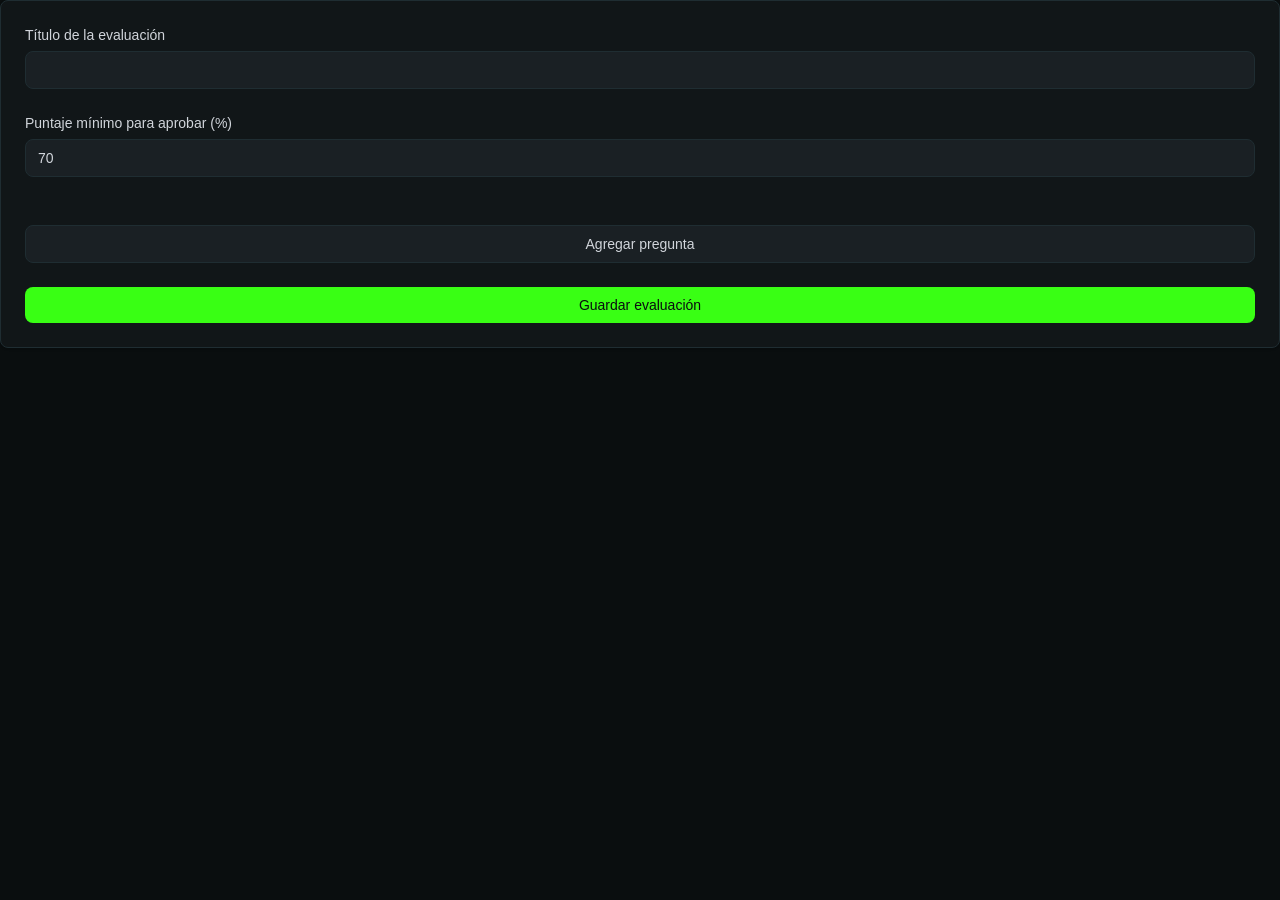
Test: QuizBuilderForm › removing a question drops its editor from the form
Step 1. Click the button "Agregar pregunta" → {"x": 640, "y": 244}, box [25,225,1255,263]
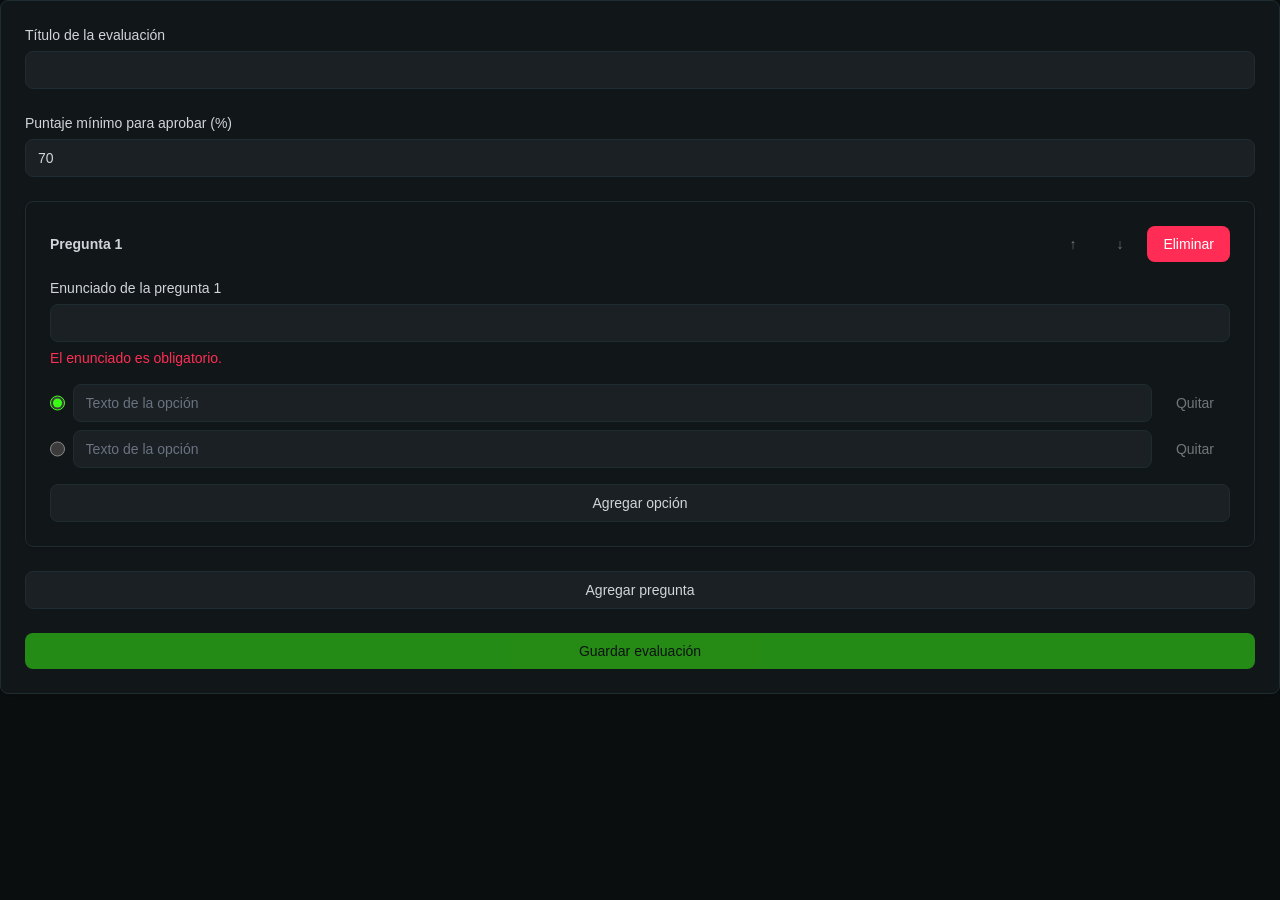
Step 2. Click the button with aria-label "Eliminar pregunta 1" → {"x": 1189, "y": 244}, box [1147,226,1230,262]
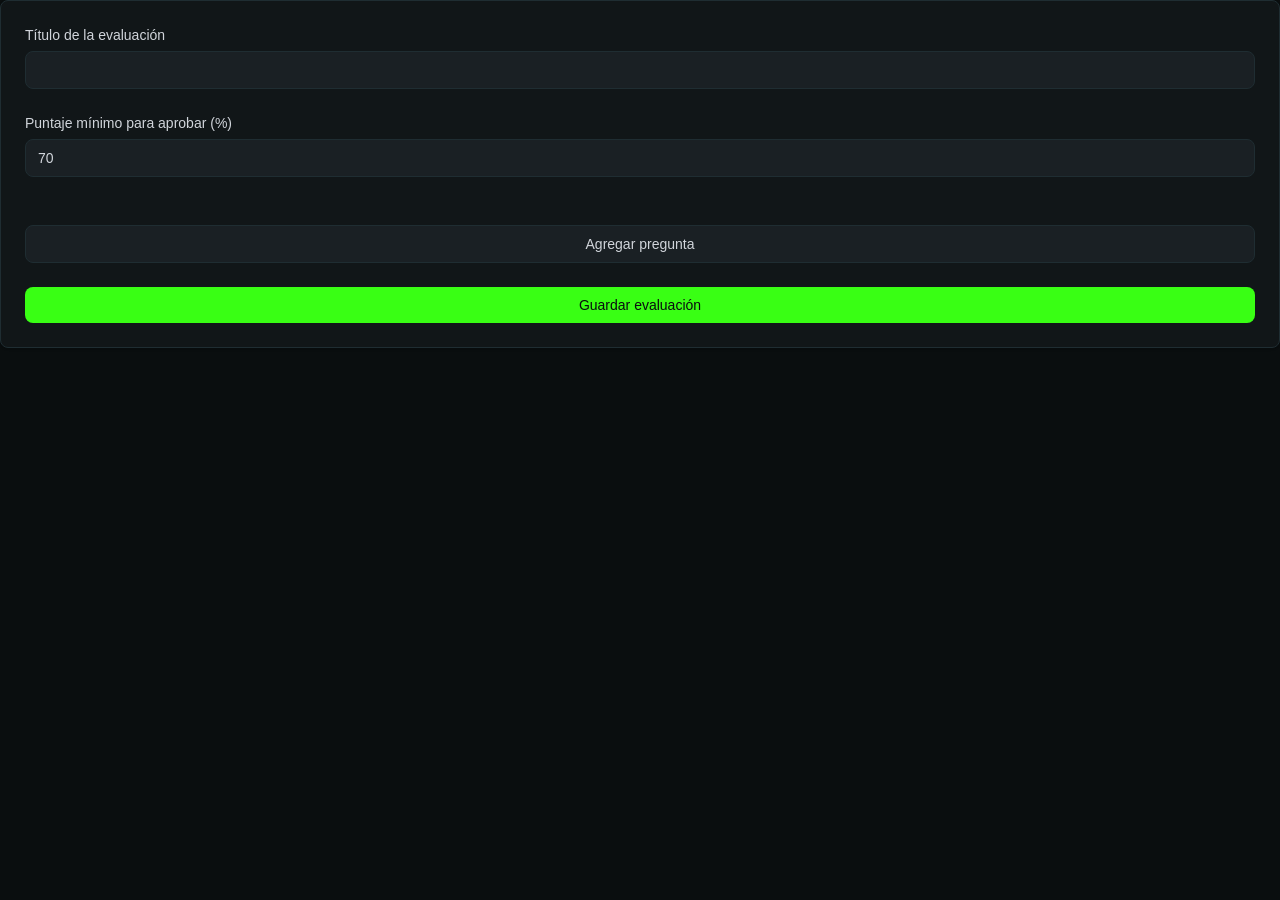
Expected: the text "Pregunta 1" is gone
Expected: the button "Guardar evaluación" is enabled, [25,287,1255,323]
